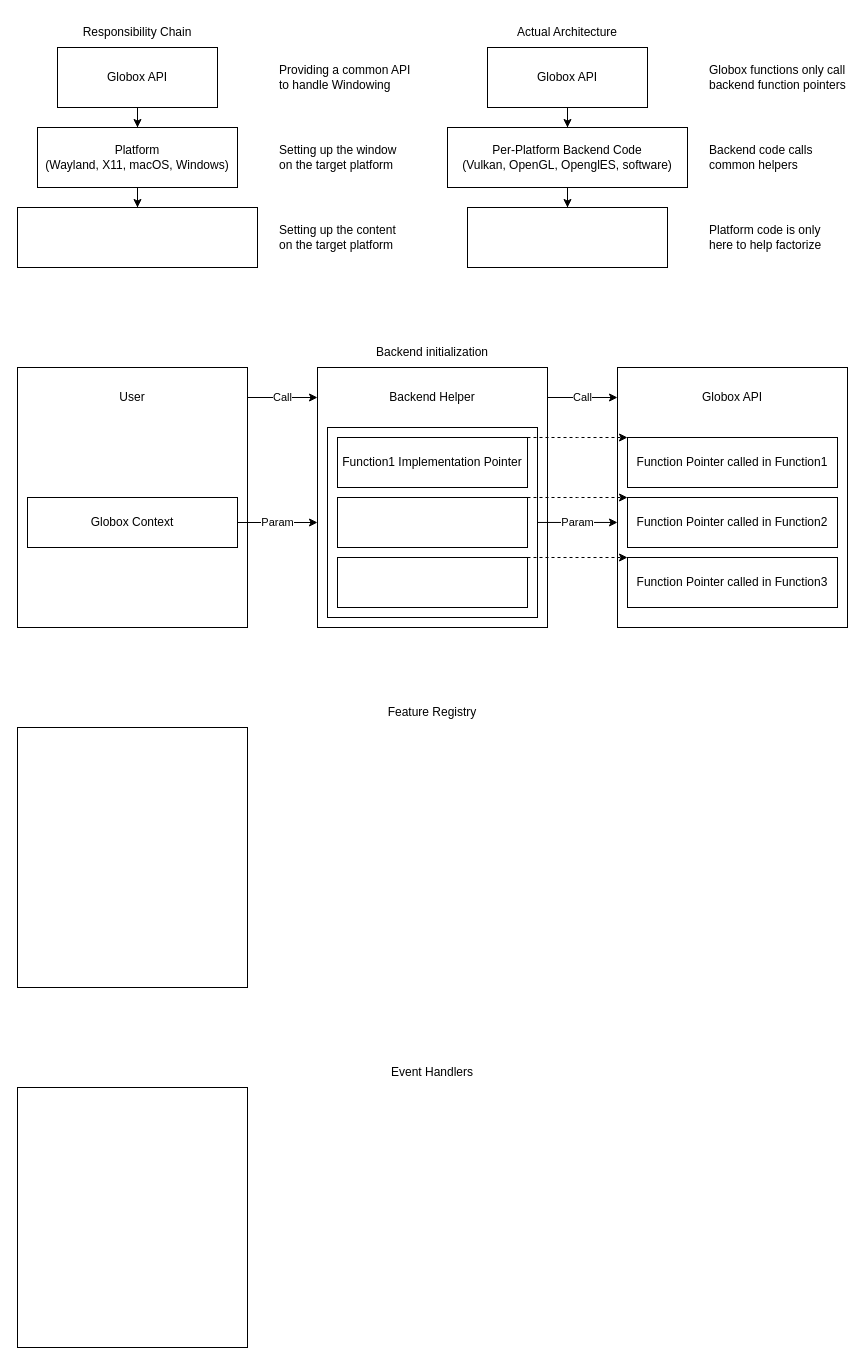
This 865x1365 diagram has some shape labels left out. The shapes that lost their labels are listed below. From the top down, each one's centre as x and y in pixels, then its label:
At point 137,237: "Platform's Backend (Vulkan, OpenGL, OpenglES, software)".
At point 567,237: "Common Platform Code (Wayland, X11, macOS, Windows)".
At point 432,522: "Function2 Implementation Pointer".
At point 432,582: "Function3 Implementation Pointer".
